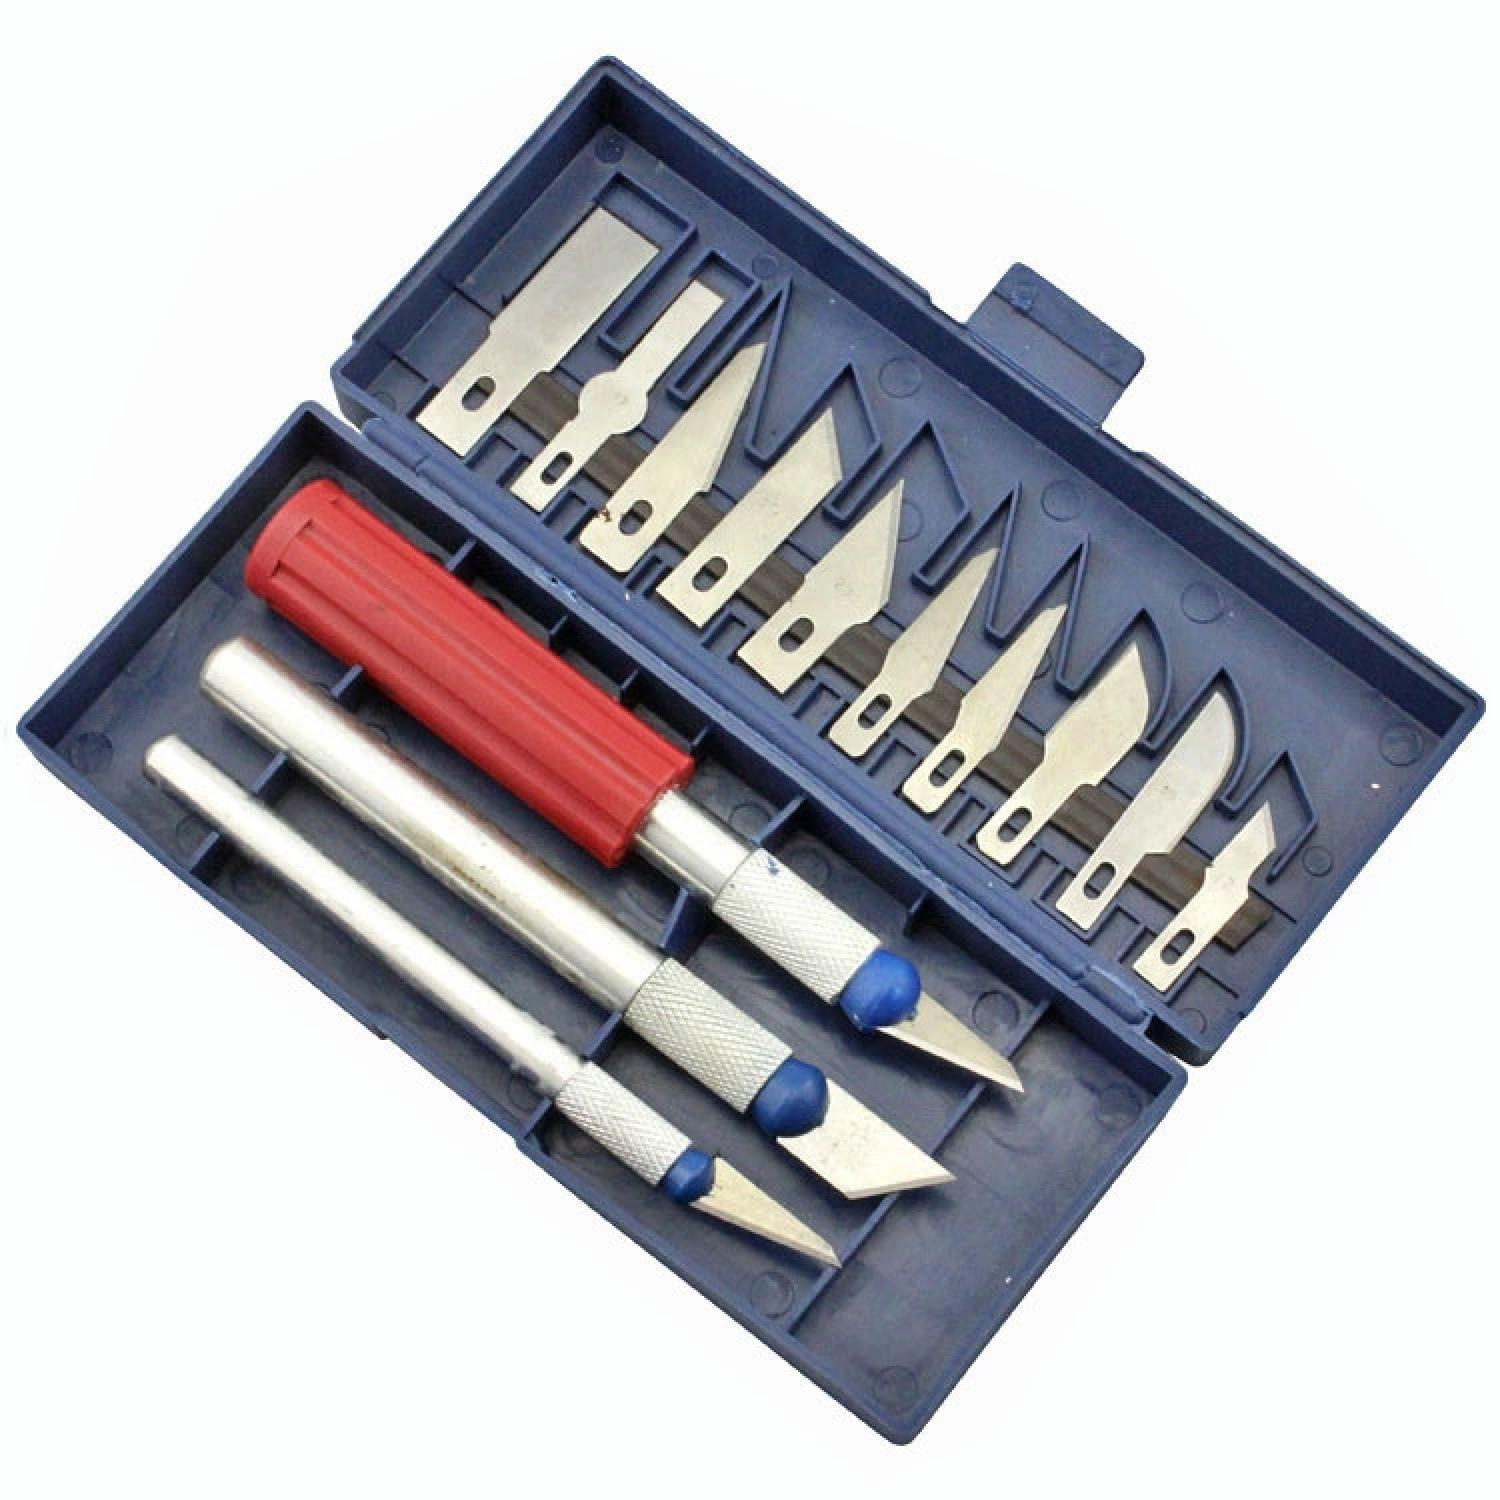faca: (624, 959, 952, 1198), (710, 848, 1021, 1091), (554, 1065, 839, 1264), (1055, 694, 1236, 931), (581, 343, 764, 571), (657, 407, 841, 626), (977, 639, 1148, 865), (738, 481, 901, 694), (828, 547, 995, 755), (901, 604, 1066, 813), (1133, 801, 1275, 990)
